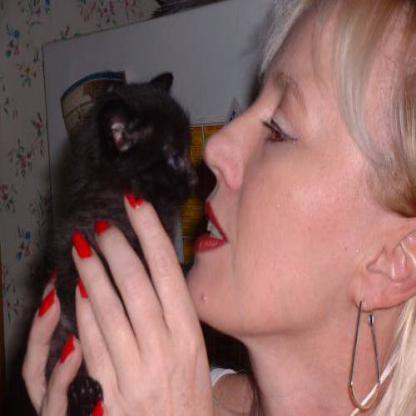cat: (33, 37, 205, 260)
